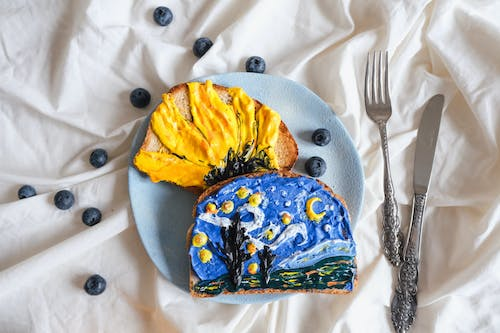knife: (389, 93, 445, 333)
